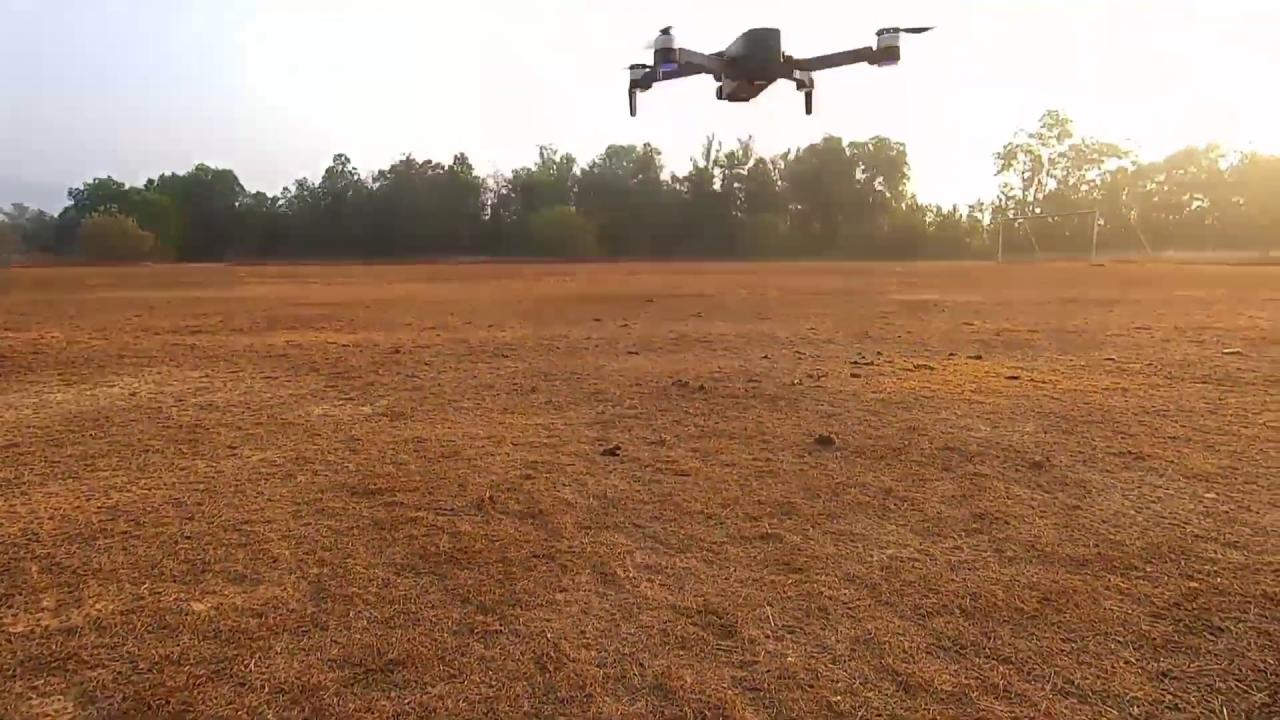Drone: (588, 9, 949, 126)
